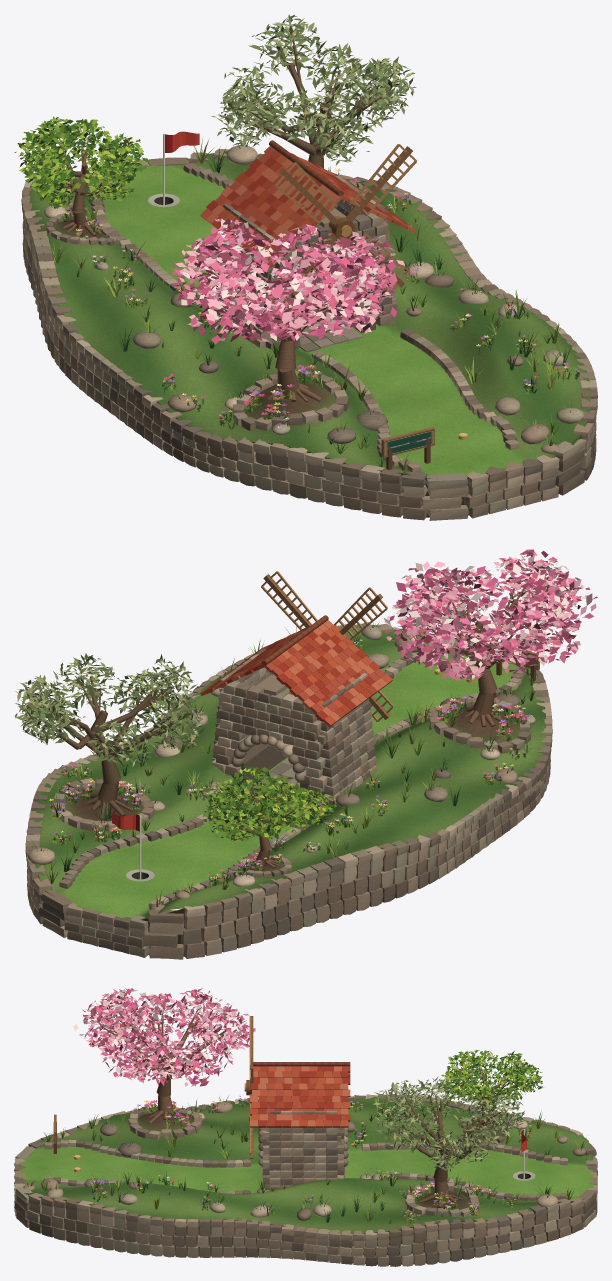
Rendered from hole-04.glb.
The picture shows the model from 3 angles, top to bottom: view 1: azimuth 30°, elevation 25°; view 2: azimuth 150°, elevation 25°; view 3: azimuth 270°, elevation 25°; orthographic projection. The views are drawn at different scales.
Parts seen in each view (by area): view 1: Hole 4 – Windmill Challenge, WindmillRotor; view 2: Hole 4 – Windmill Challenge, WindmillRotor; view 3: Hole 4 – Windmill Challenge, WindmillRotor.
Part boxes in pixels (x1,y1,x2,y2): Hole 4 – Windmill Challenge: (14,14,597,520); WindmillRotor: (268,144,416,302); Hole 4 – Windmill Challenge: (14,549,597,959); WindmillRotor: (261,571,393,721); Hole 4 – Windmill Challenge: (14,988,597,1266); WindmillRotor: (244,1016,253,1158).
Size of the model in its own units: 1.68 by 0.895 by 2.82.
8 materials, 5 textured.
